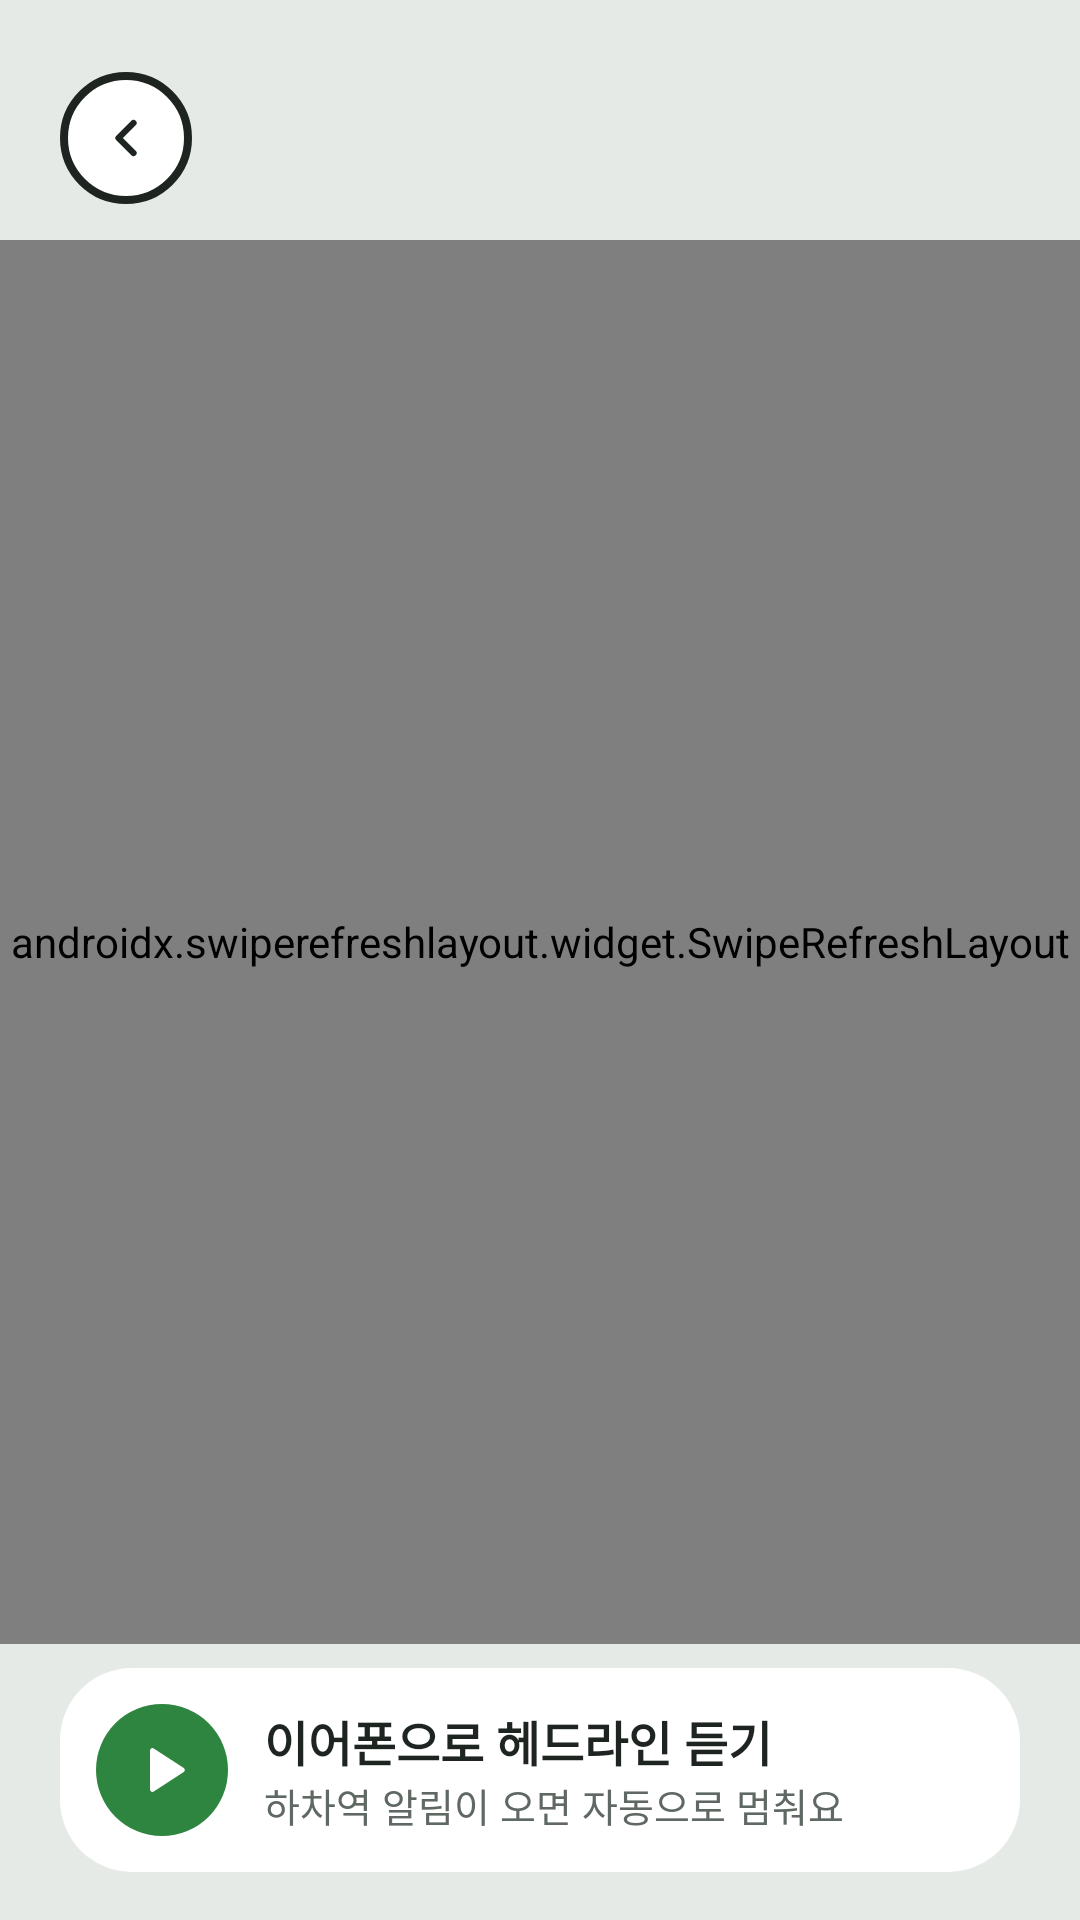

Where icons sit on this 1080 × 1920 app screen, as (x1, y1, x2, y2):
play: (96, 1704, 228, 1836)
